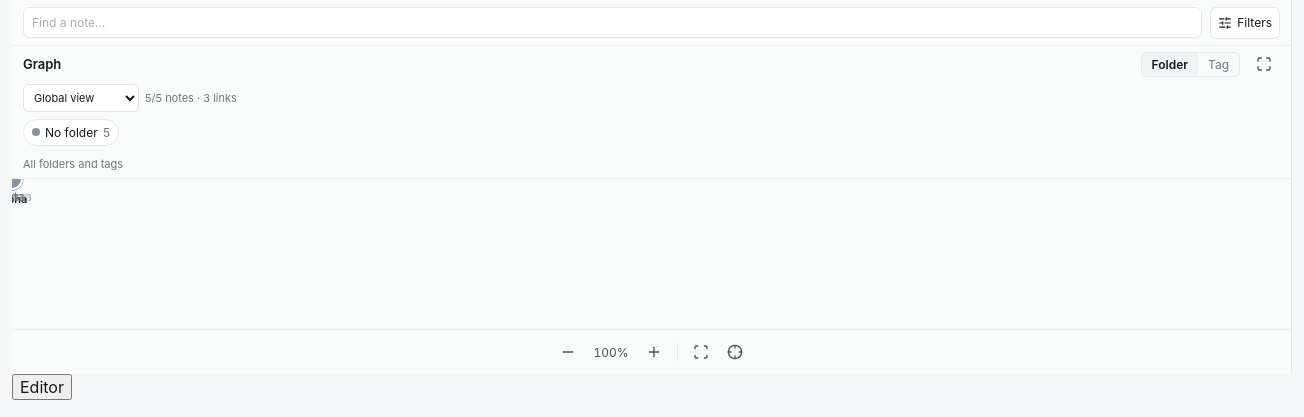
Test: Graph exploration controls › provides an honest tag legend and a useful empty graph message
Later steps or results of the test are not shown.
Click the button "Tag" at (1218, 64), box [1198,52,1239,76]
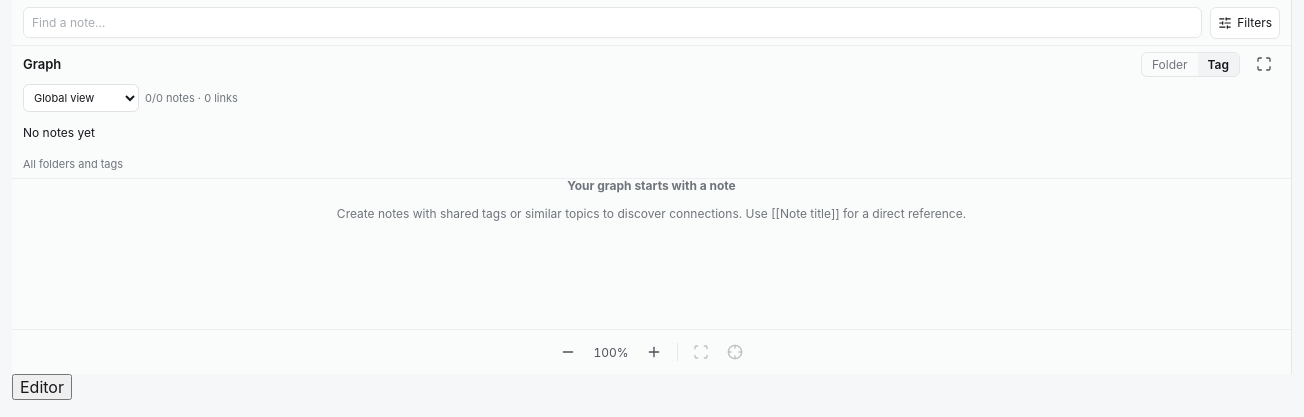
Expected: the message with class "graph-empty" shows "[ [Note title]]", [337,205,966,220]
